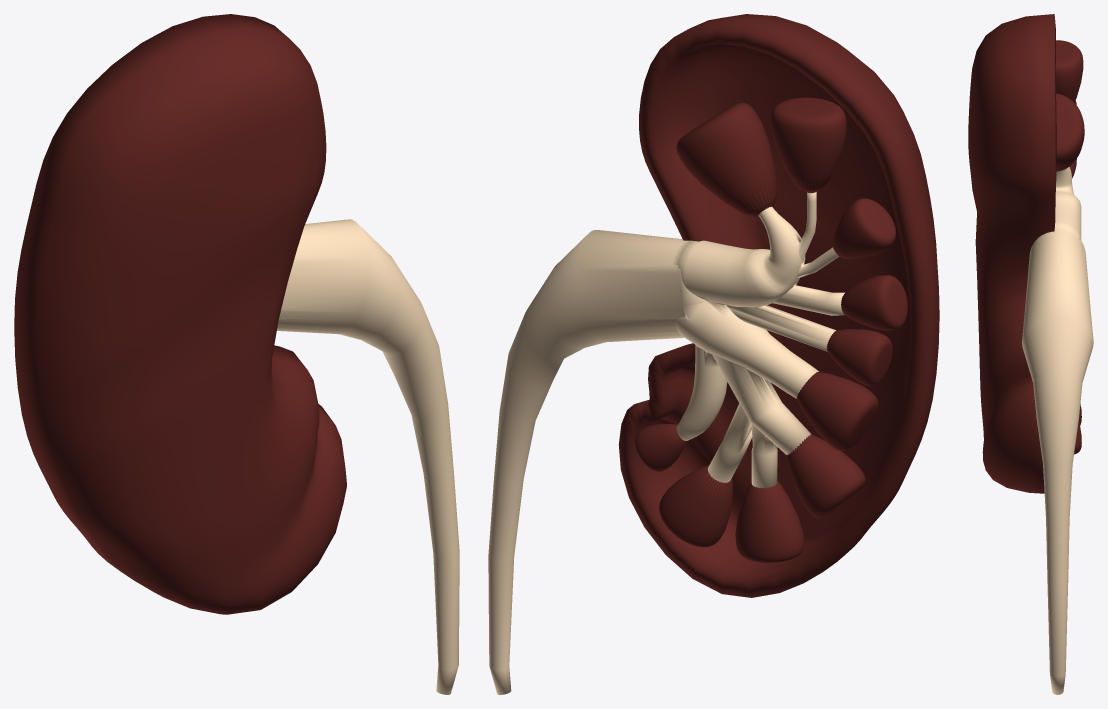
File: KidneyStandalone.fbx
The picture shows the model from 3 angles, left to right: view 1: azimuth 30°, elevation 25°; view 2: azimuth 150°, elevation 25°; view 3: azimuth 270°, elevation 25°; orthographic projection. The views are drawn at different scales.
Parts seen in each view (by area): view 1: Kidney; view 2: Kidney; view 3: Kidney.
Boxes of the visible parts, x1,y1,x2,y2 form: Kidney: (14,14,459,694); Kidney: (488,14,939,694); Kidney: (968,14,1093,694).
Size of the model in its own units: 268 by 424 by 84.2.
